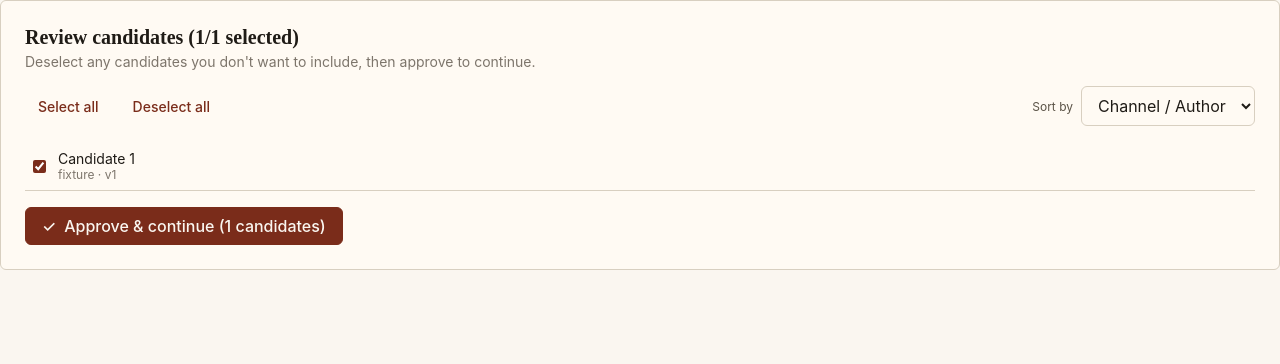
Scenario: approval refused by the document cap › clears the message once an approval goes through
This screenshot has width=1280, height=364.
Click the button "✓ Approve & continue (1 candidates)" at (184, 226), box [25,207,343,245]
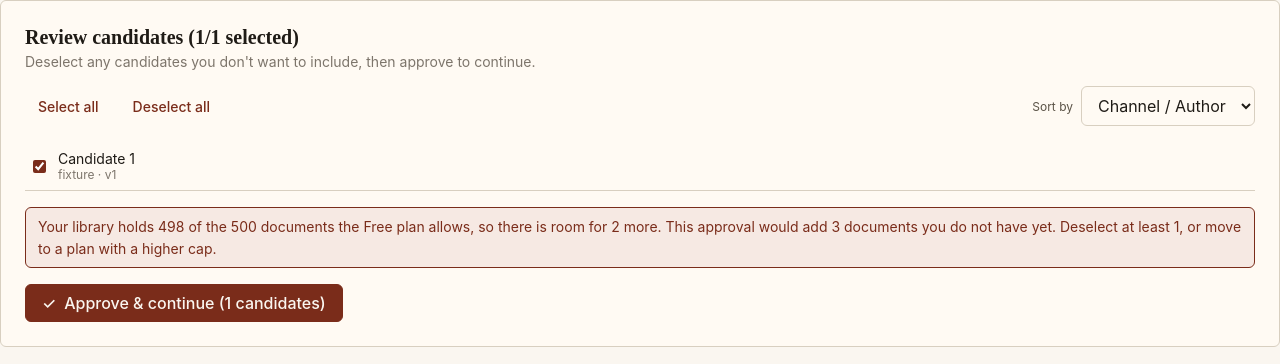
Check: the message is shown, box [25,207,1255,268]
Click the button "✓ Approve & continue (1 candidates)" at (184, 303), box [25,284,343,322]
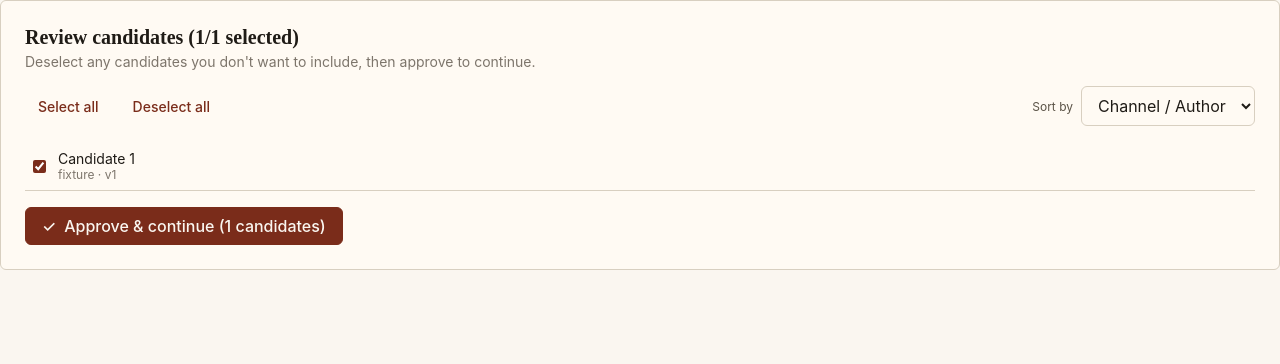
Check: the message is gone
